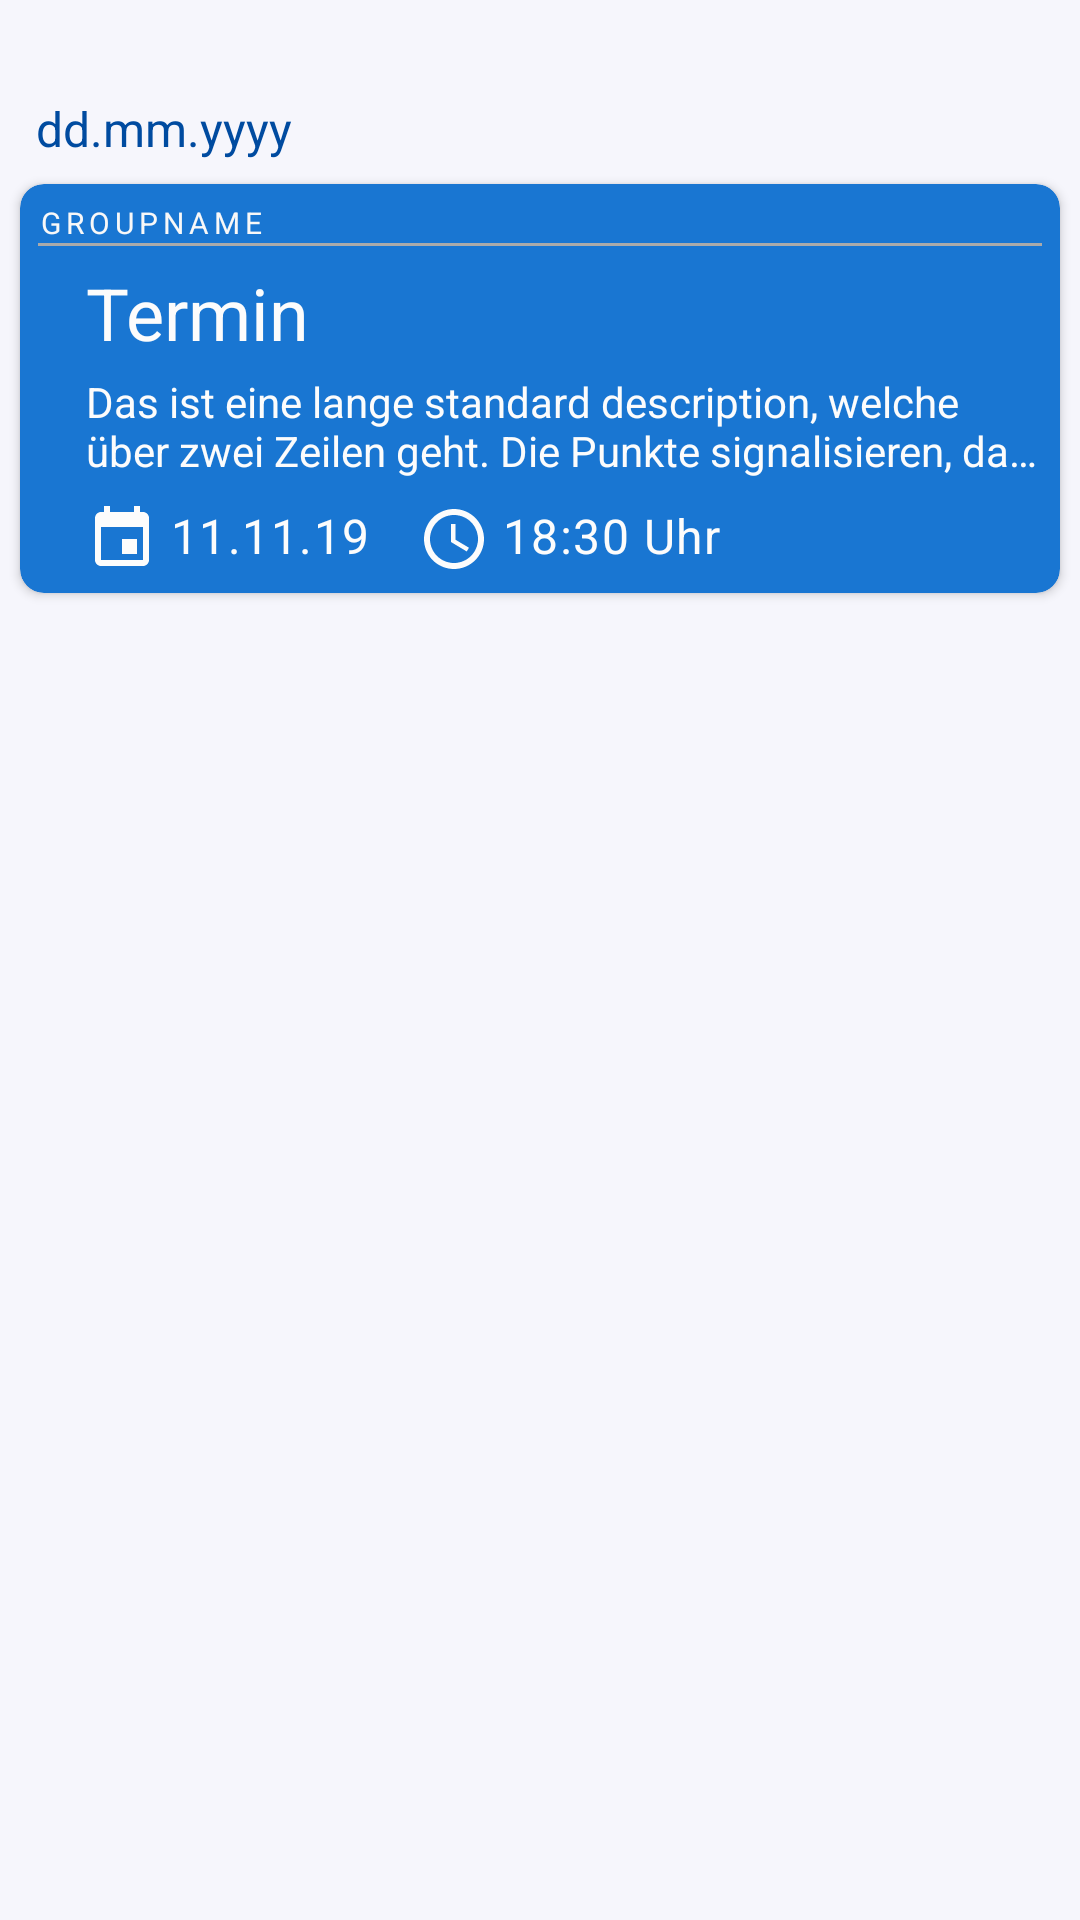

Where to tap for icons on this 1080 x 1920 app screen, as (x,y):
access time: (454,539)
event: (122,536)
